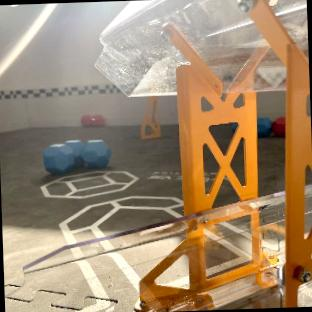V5_BLUE: (42, 138, 111, 175), (257, 117, 271, 134)
